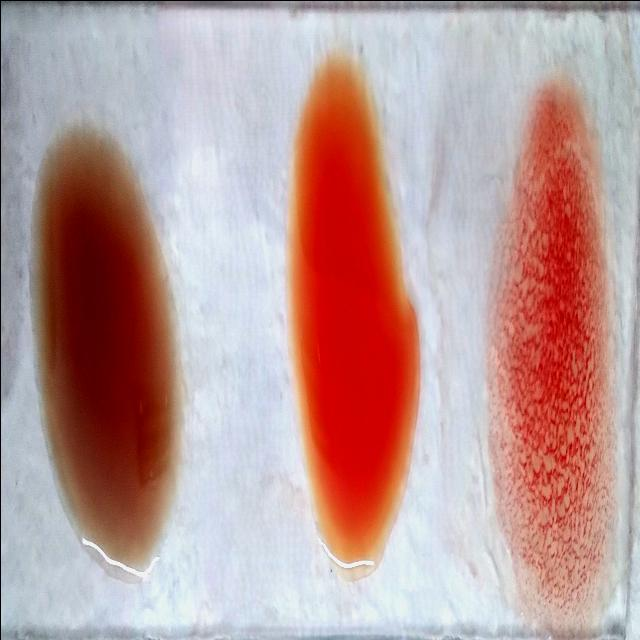D: (494, 75, 612, 625)
